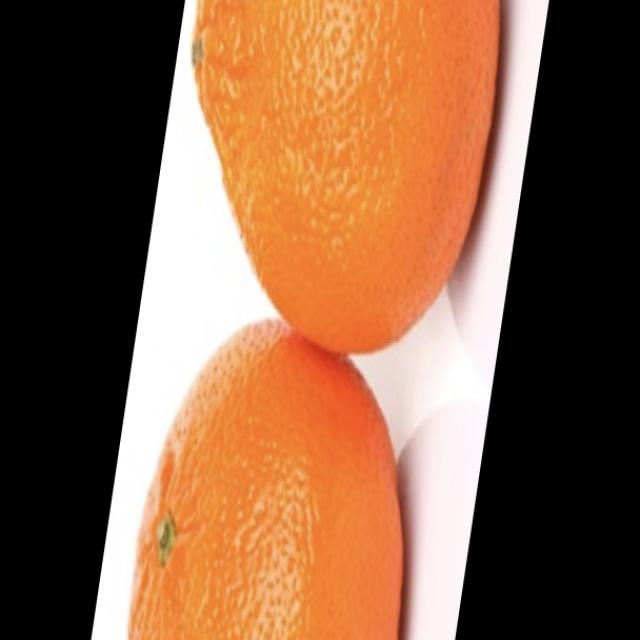fresh: (127, 0, 501, 640)
